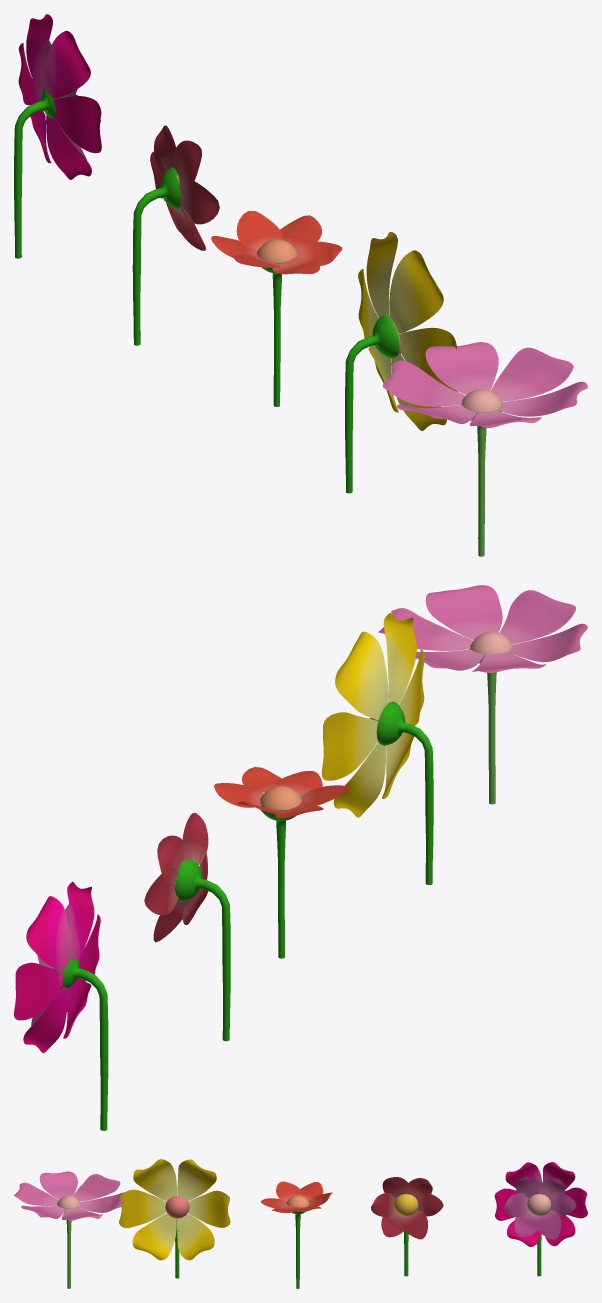
The model's file is Flowers 4.obj.
The picture shows the model from 3 angles, top to bottom: view 1: azimuth 30°, elevation 25°; view 2: azimuth 150°, elevation 25°; view 3: azimuth 270°, elevation 25°; orthographic projection. The views are drawn at different scales.
Visible parts, largest first — view 1: Flower_1, Flower_2, Flower_4.001, Flower_3, Flower_4; view 2: Flower_2, Flower_1, Flower_4.001, Flower_4, Flower_3; view 3: Flower_2, Flower_4.001, Flower_1, Flower_4, Flower_3.
Part boxes in pixels (x1,y1,x2,y2): Flower_1: (382, 342, 587, 556); Flower_2: (345, 232, 457, 493); Flower_4.001: (14, 14, 101, 258); Flower_3: (211, 211, 342, 406); Flower_4: (132, 125, 219, 345); Flower_2: (321, 613, 433, 884); Flower_1: (378, 585, 587, 804); Flower_4.001: (14, 881, 108, 1130); Flower_4: (144, 812, 230, 1041); Flower_3: (214, 767, 349, 958); Flower_2: (119, 1159, 230, 1278); Flower_4.001: (494, 1162, 587, 1276); Flower_1: (14, 1171, 123, 1288); Flower_4: (371, 1177, 443, 1276); Flower_3: (261, 1181, 332, 1288).
Bounding box in the file's own units: 4.24 × 5.47 × 21.21.
Materials: 16 (16 with a texture image).
